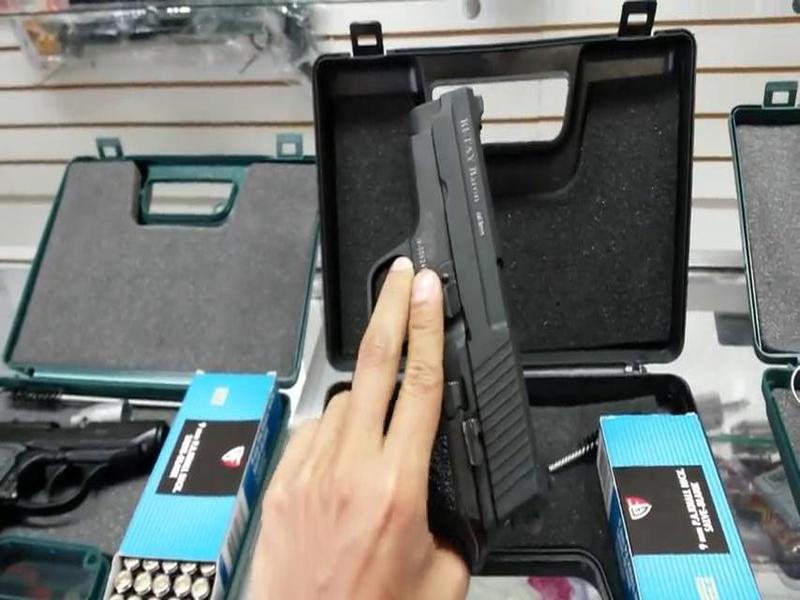Pistola: (235, 62, 568, 574)
